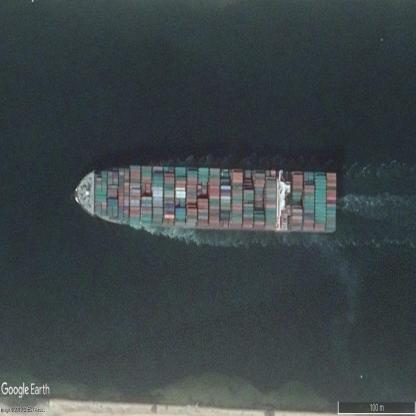ship: (74, 163, 339, 238)
